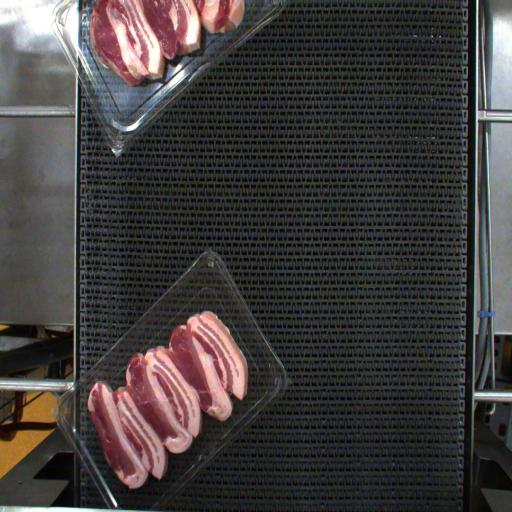wrinkle: (133, 387, 216, 408)
